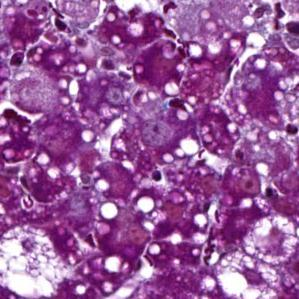ballooning: (4, 222, 66, 299), (214, 251, 298, 298), (239, 212, 296, 266)
